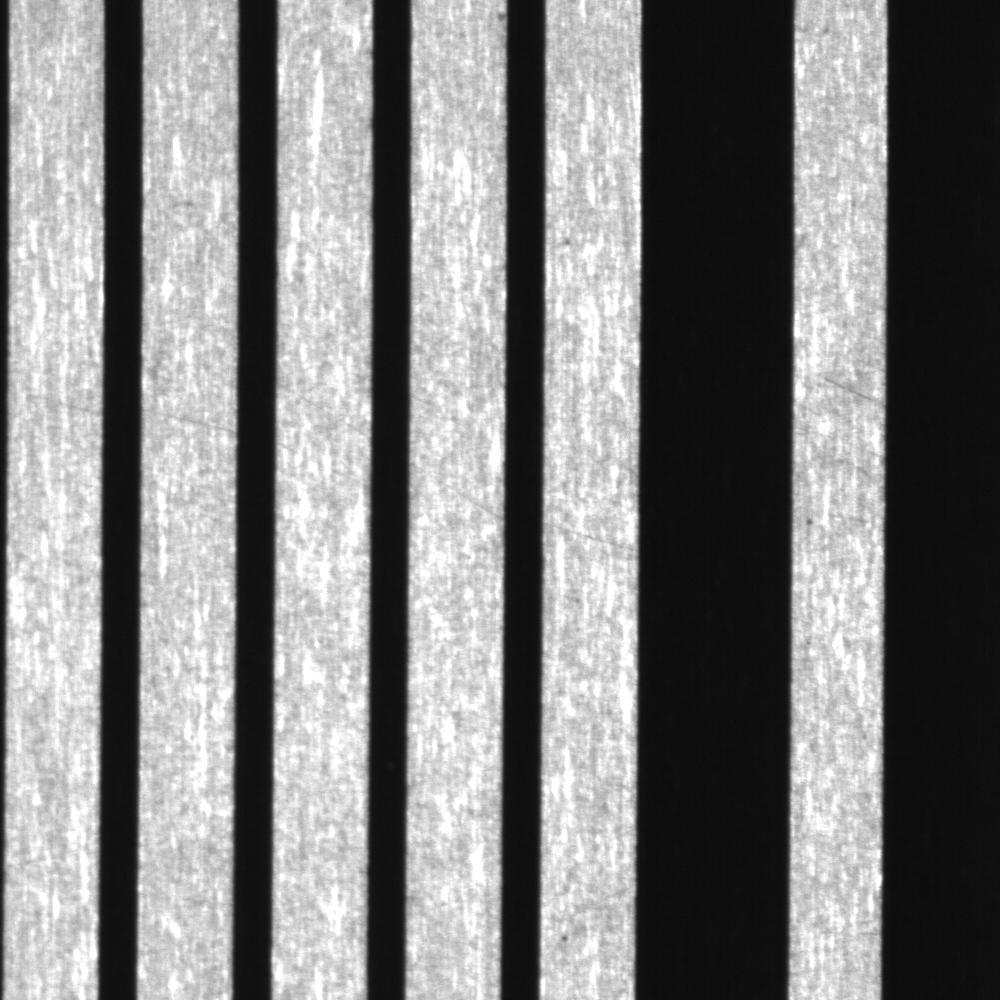Pinhole: (797, 503, 826, 538), (558, 230, 586, 260), (549, 930, 579, 949)
Scar: (277, 373, 370, 443), (410, 451, 505, 518), (542, 512, 639, 562), (810, 364, 886, 426), (140, 398, 236, 443), (21, 377, 100, 421), (552, 878, 635, 919)
